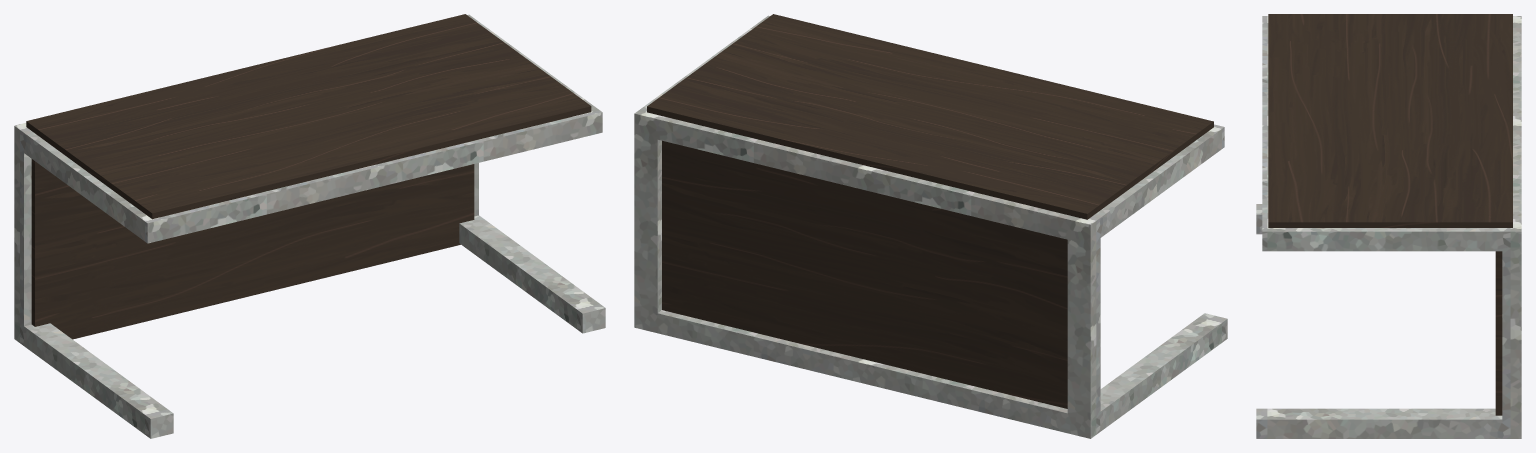
File: computer_desk.FBX
3 renders of one model, left to right at view 1: azimuth 30°, elevation 25°; view 2: azimuth 150°, elevation 25°; view 3: azimuth 270°, elevation 25°, orthographic. The views are drawn at different scales.
Visible parts, largest first — view 1: Box001, Box002; view 2: Box001, Box002; view 3: Box001, Box002.
Boxes of the visible parts, x1=… form: Box001: x1=26, y1=14, x2=591, y2=339; Box002: x1=14, y1=14, x2=605, y2=438; Box001: x1=647, y1=14, x2=1213, y2=408; Box002: x1=634, y1=15, x2=1227, y2=438; Box001: x1=1268, y1=14, x2=1512, y2=415; Box002: x1=1256, y1=16, x2=1521, y2=438.
Bounding box in the file's own units: 2.1 × 0.974 × 1.09.
